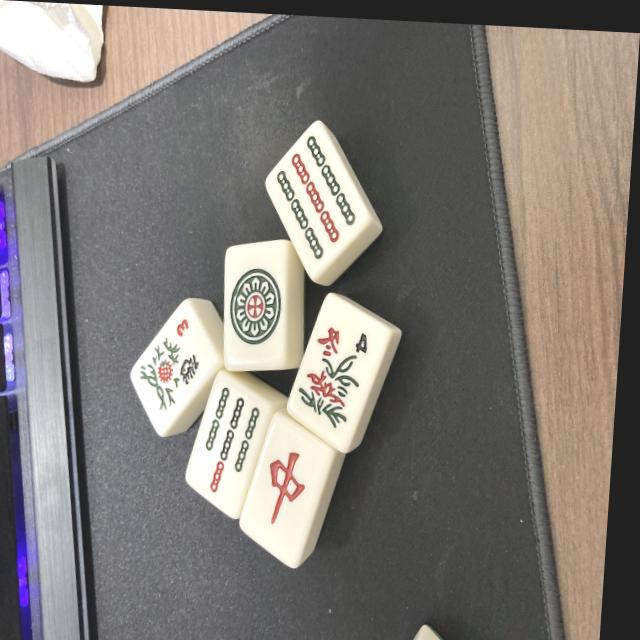f3: (127, 303, 224, 432)
ff4: (282, 295, 390, 451)
s7: (183, 373, 278, 518)
s9: (259, 121, 379, 279)
t1: (218, 240, 305, 375)
zhong: (233, 416, 333, 571)
